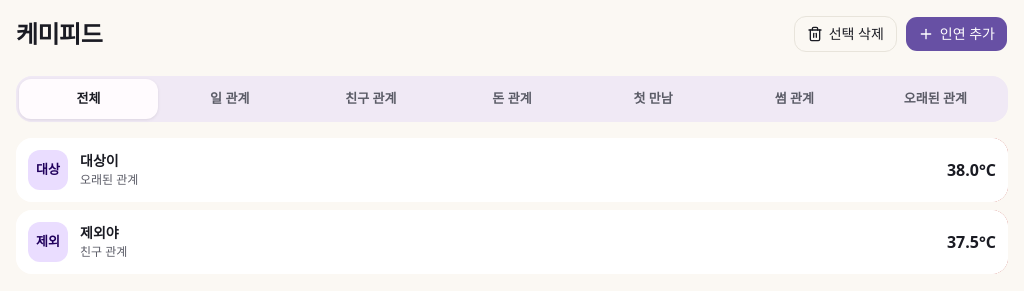
Test: FeedPage › 오래합 필터 클릭 시 해당 모드 항목만 표시된다
This screenshot has width=1024, height=291.
Expected: the text "대상이" is shown, [80,151,119,170]
Step 1. Click the radio button labelled "오래된 관계" → coordinates (935, 99), box [866,79,1005,118]
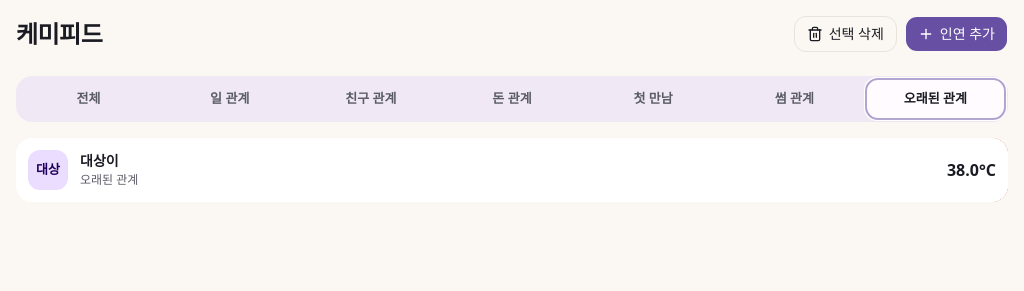
Expected: the text "대상이" is shown, [80,151,119,170]
Result: the button "제외야" is gone
